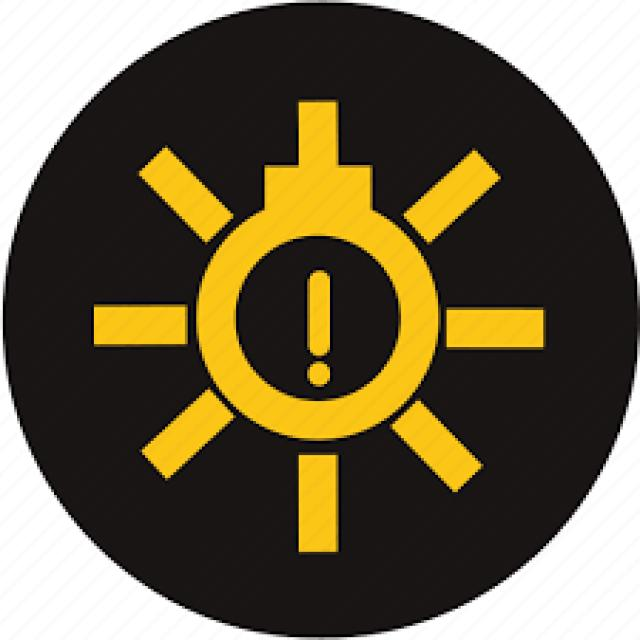kontrolka: (72, 80, 570, 572)
